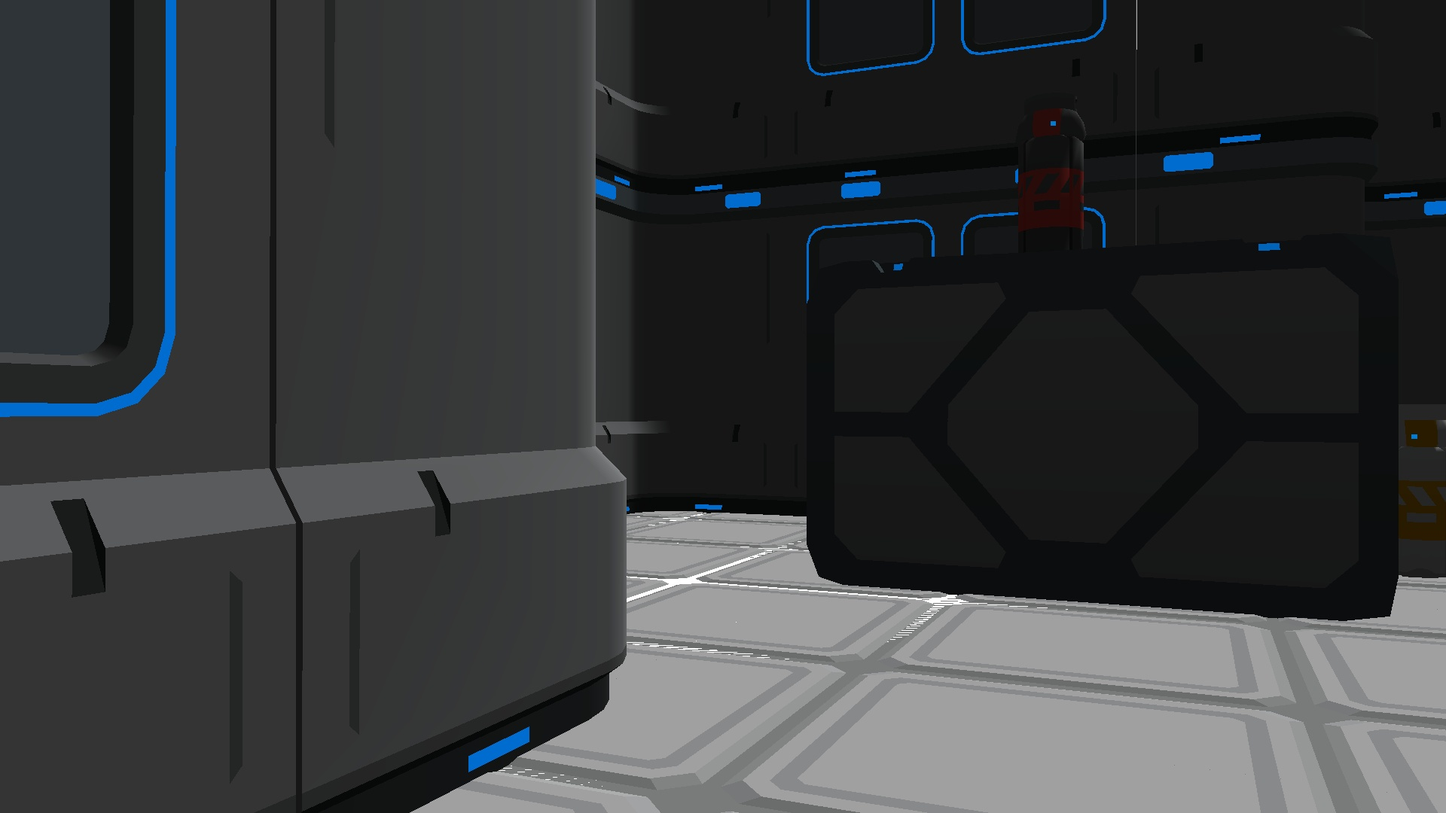red barrel: (1018, 109, 1086, 253)
yellow barrel: (1398, 404, 1446, 578)
